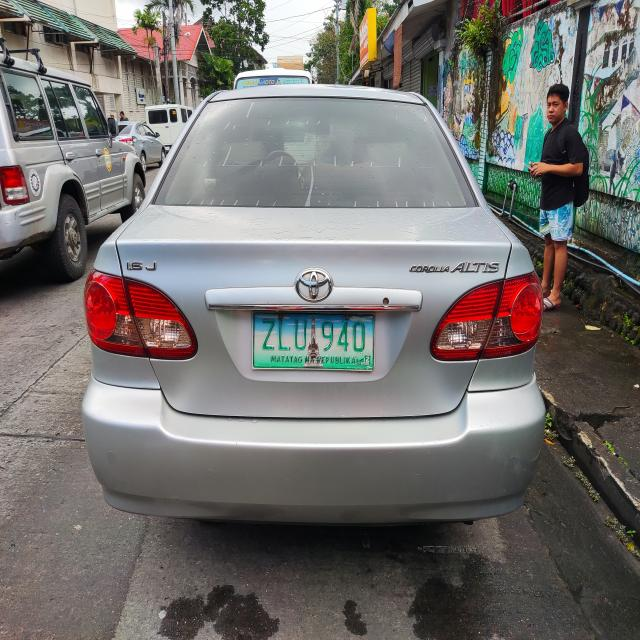plate: (249, 303, 379, 381)
